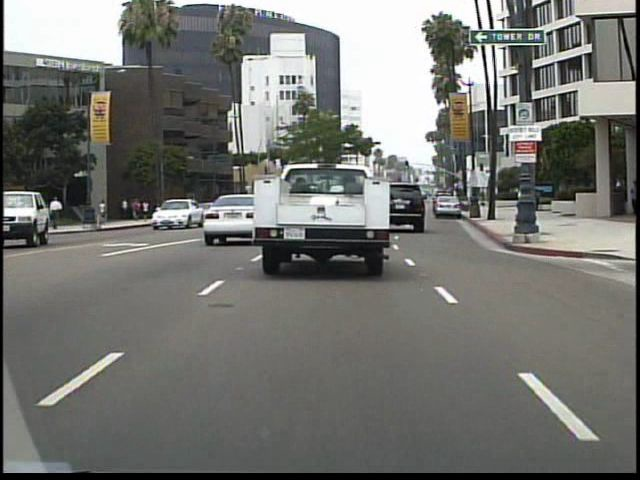person: (37, 200, 53, 237), (624, 175, 638, 217), (51, 194, 66, 232), (533, 187, 542, 214), (101, 197, 109, 224)
